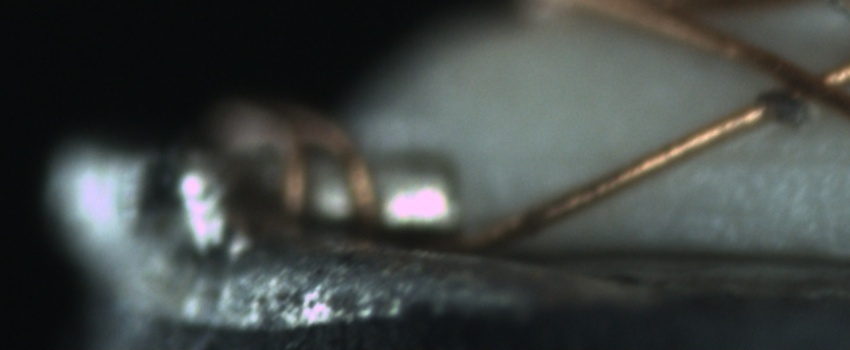CL: (756, 48, 847, 121)
DL: (663, 140, 850, 187)
TE: (216, 98, 386, 247)
